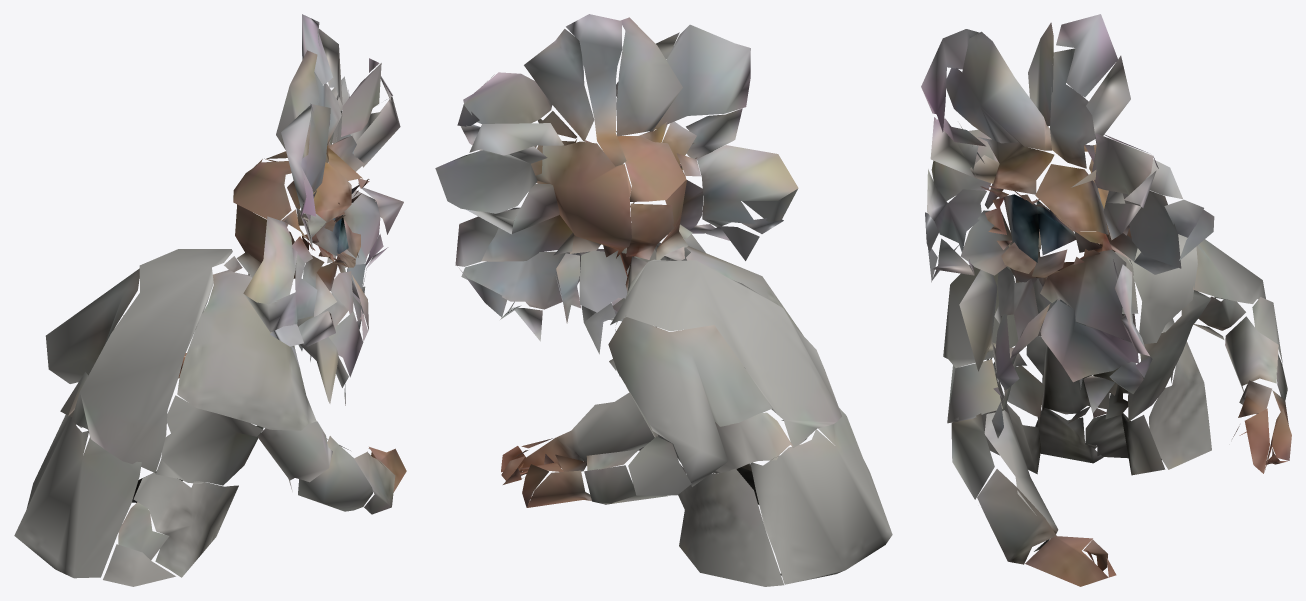
File: crowd_hustler_upper.glb
3 renders of one model, left to right at view 1: azimuth 30°, elevation 25°; view 2: azimuth 150°, elevation 25°; view 3: azimuth 270°, elevation 25°, orthographic. The views are drawn at different scales.
Visible parts, largest first — view 1: tripo_node_9c831a25-49ee-4494-91a2-c6b040481e57; view 2: tripo_node_9c831a25-49ee-4494-91a2-c6b040481e57; view 3: tripo_node_9c831a25-49ee-4494-91a2-c6b040481e57.
Part boxes in pixels (x1,y1,x2,y2): tripo_node_9c831a25-49ee-4494-91a2-c6b040481e57: (14, 14, 406, 586); tripo_node_9c831a25-49ee-4494-91a2-c6b040481e57: (435, 14, 892, 586); tripo_node_9c831a25-49ee-4494-91a2-c6b040481e57: (921, 14, 1291, 586).
Bounding box in the file's own units: 0.5098 × 0.601 × 0.386.
Materials: 1 (1 with a texture image).
